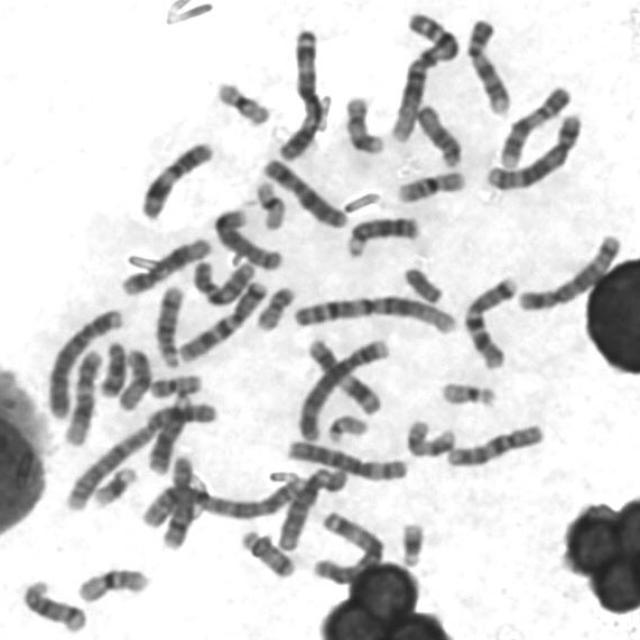A1: (384, 5, 464, 144), (288, 287, 460, 337)
A2: (57, 395, 221, 512), (133, 472, 306, 528)
A3: (274, 21, 325, 162), (307, 506, 387, 589)
B4: (292, 332, 394, 444), (40, 301, 127, 422)
B5: (514, 228, 626, 313), (480, 106, 586, 192)
C10: (441, 416, 548, 469), (186, 254, 260, 308)
C11: (134, 135, 218, 221), (302, 334, 384, 416)
C12: (116, 231, 216, 297), (57, 344, 104, 448)
C6: (272, 460, 351, 551), (282, 433, 412, 482)
C7: (173, 274, 270, 364), (458, 270, 522, 371)
C8: (207, 202, 287, 271), (157, 448, 198, 551)
C9: (494, 79, 575, 170), (460, 12, 514, 116)
D13: (141, 387, 194, 476), (341, 209, 424, 260)
D14: (15, 574, 90, 634), (149, 280, 188, 369)
D15: (411, 100, 465, 168), (111, 342, 155, 412)
E16: (70, 562, 152, 604), (391, 164, 469, 205)
E17: (340, 90, 388, 156), (400, 413, 459, 459)
E18: (236, 524, 298, 580), (93, 334, 129, 398)
F19: (210, 74, 274, 128), (250, 174, 288, 232)
F20: (251, 280, 298, 332), (143, 367, 204, 399)
G21: (86, 460, 140, 509), (396, 516, 428, 569)
G22: (434, 376, 501, 409), (321, 409, 371, 445)
X: (256, 152, 351, 230)
Y: (398, 262, 446, 304)
